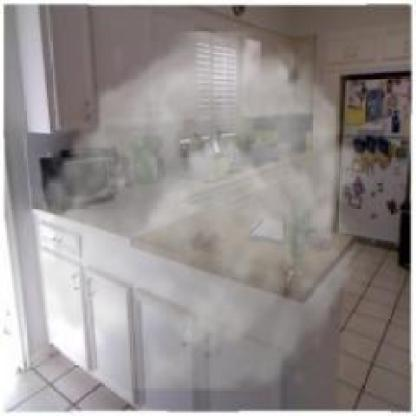Smoke: (21, 31, 380, 390)
